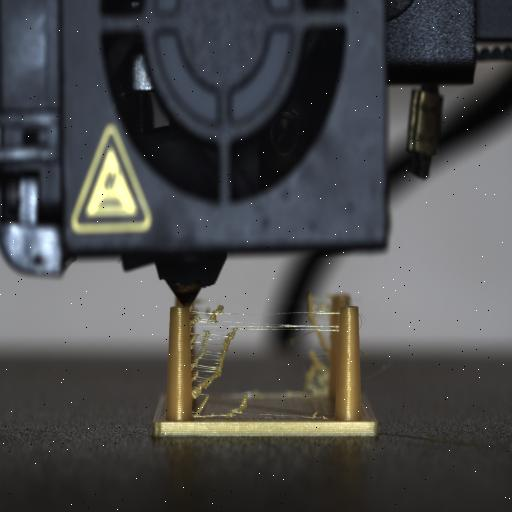stringing: (184, 294, 362, 424)
